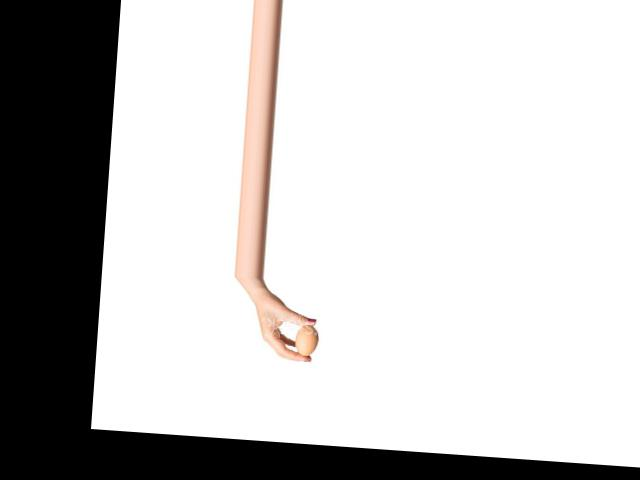egg: (294, 323, 318, 356)
